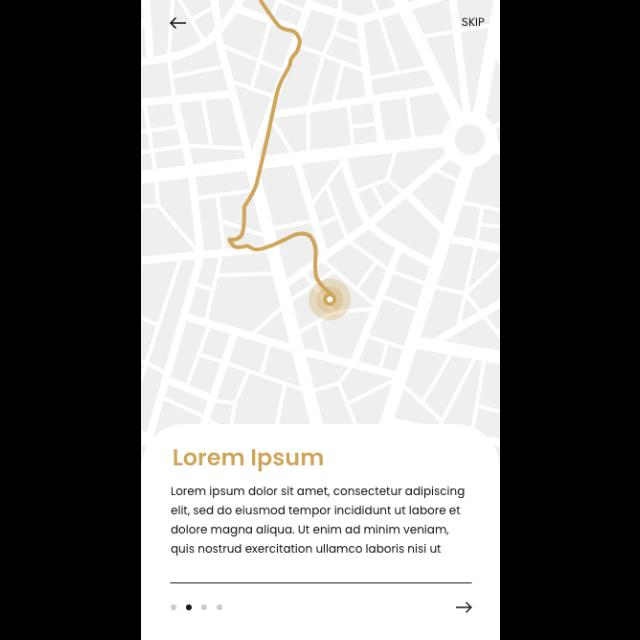icon: (456, 600, 472, 614), (169, 18, 187, 30)
image: (141, 1, 499, 458)
pageindicator: (170, 604, 223, 610)
text: (170, 486, 464, 556), (172, 449, 324, 473), (462, 16, 484, 28)
